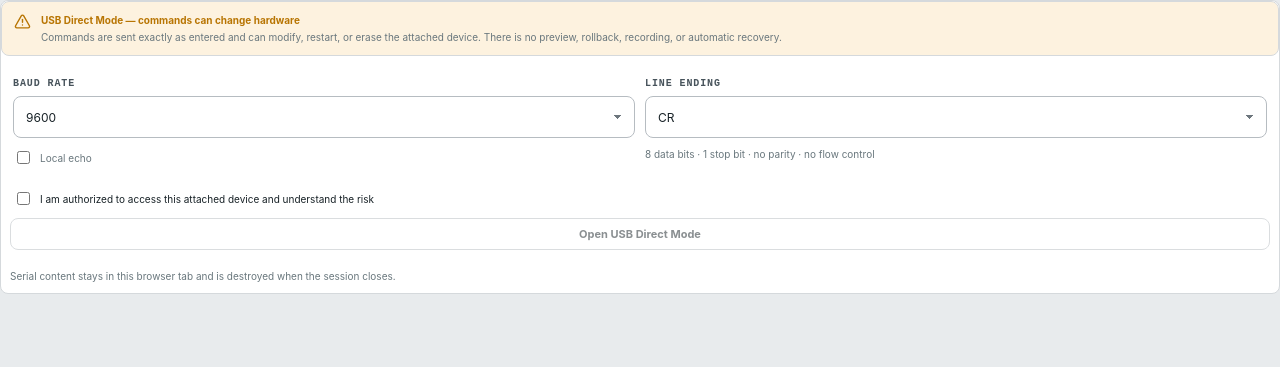
Manual USB Console › keeps a serial write failure sanitized, in memory, and private
The image size is (1280, 367).
Click the checkbox labelled "authorized to access": (24, 198) [17,192,30,205]
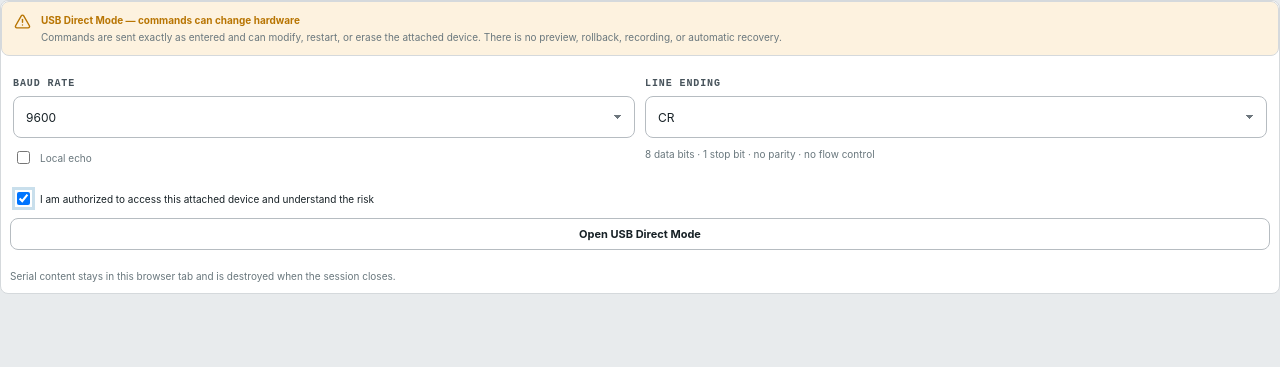
Click the button "Open USB Direct Mode": (640, 234) [10,218,1270,250]
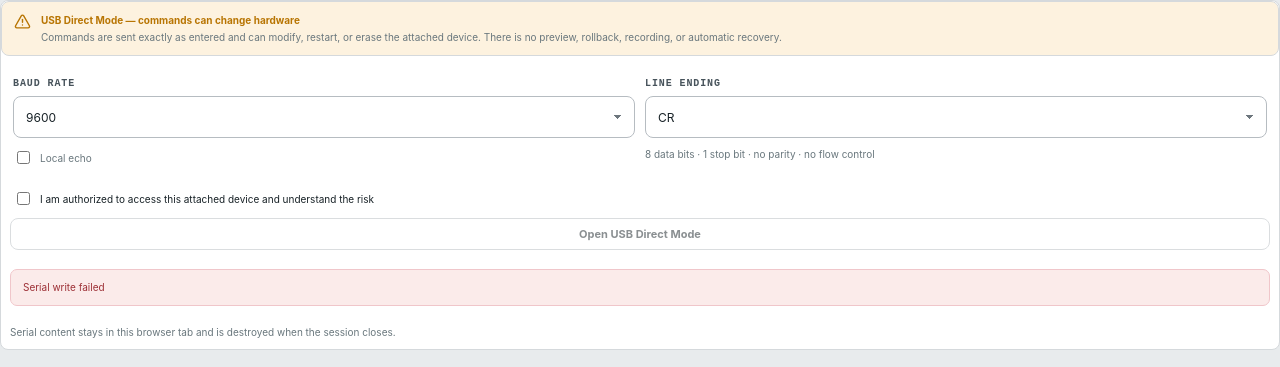
Now the text "Serial write failed" is shown, box [23,281,105,293]
